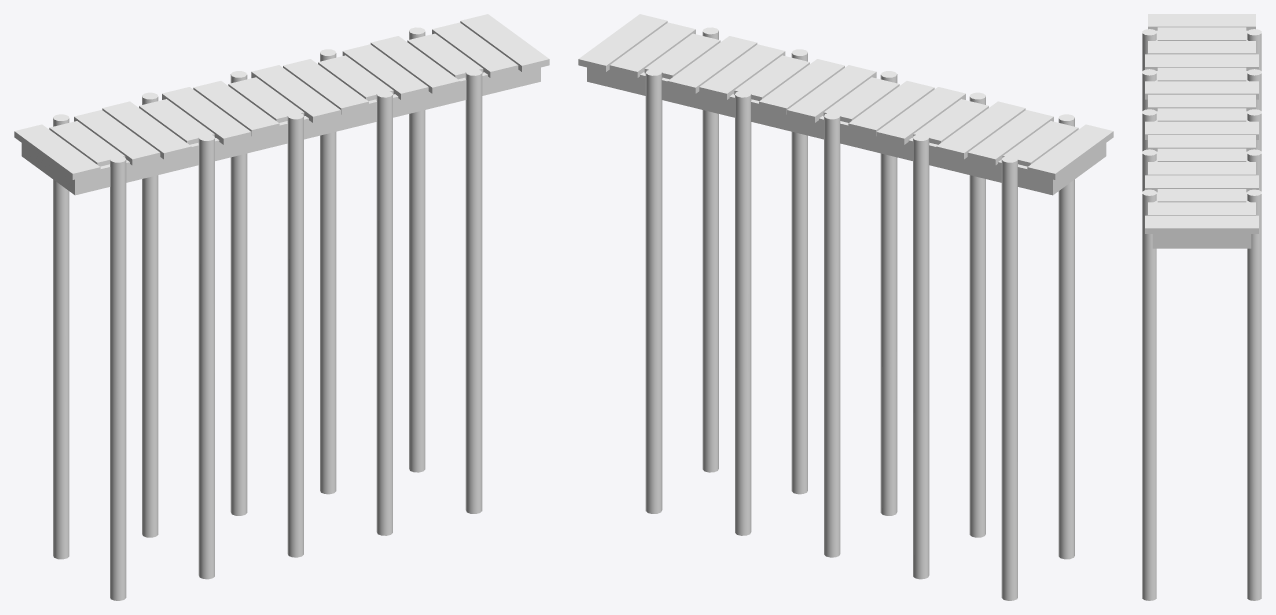
File: Fishing_Zone_01.fbx
The picture shows the model from 3 angles, left to right: view 1: azimuth 30°, elevation 25°; view 2: azimuth 150°, elevation 25°; view 3: azimuth 270°, elevation 25°; orthographic projection. The views are drawn at different scales.
Visible parts, largest first — view 1: Fishing_Zone_01; view 2: Fishing_Zone_01; view 3: Fishing_Zone_01.
Part boxes in pixels (box(x1,y1,x2,y2)): Fishing_Zone_01: box(14, 14, 549, 600); Fishing_Zone_01: box(578, 14, 1113, 600); Fishing_Zone_01: box(1142, 14, 1261, 600).
Bounding box in the file's own units: 891 × 785 × 210.
Materials: 1 (1 with a texture image).
